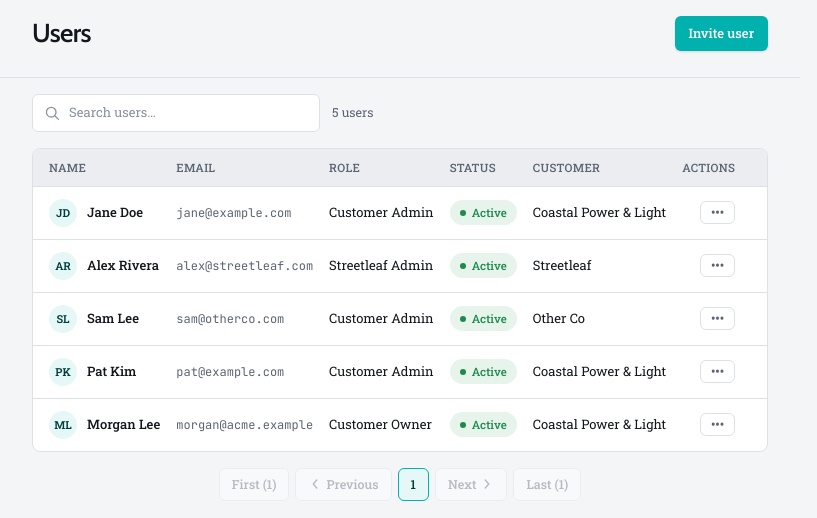
Test: UsersPage › gives a Streetleaf Admin viewer Transfer Ownership and Delete on a Customer Owner's row, end to end
The width and height of the screenshot is (817, 518).
Click the button named "Actions for Morgan Lee" at [718, 425], box [700,413,735,436]
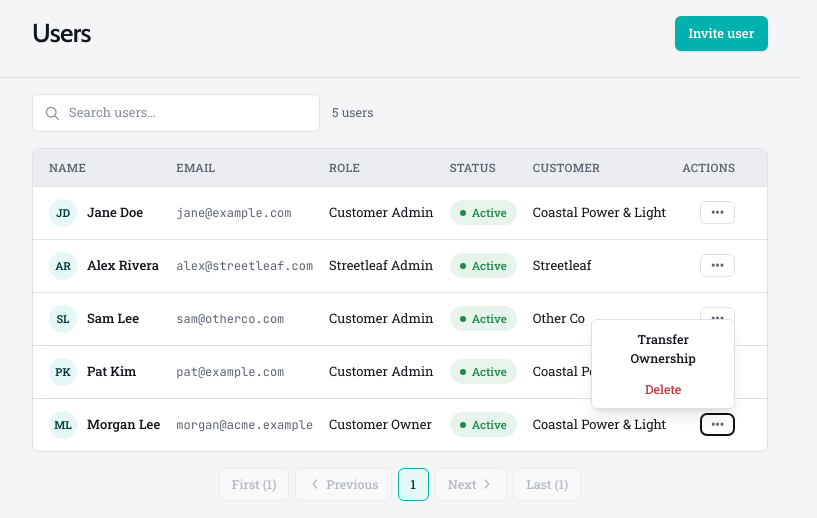
expect the menu item "Transfer Ownership" is shown: met, box [592,324,734,374]
expect the menu item "Delete" is shown: met, box [592,374,734,404]
